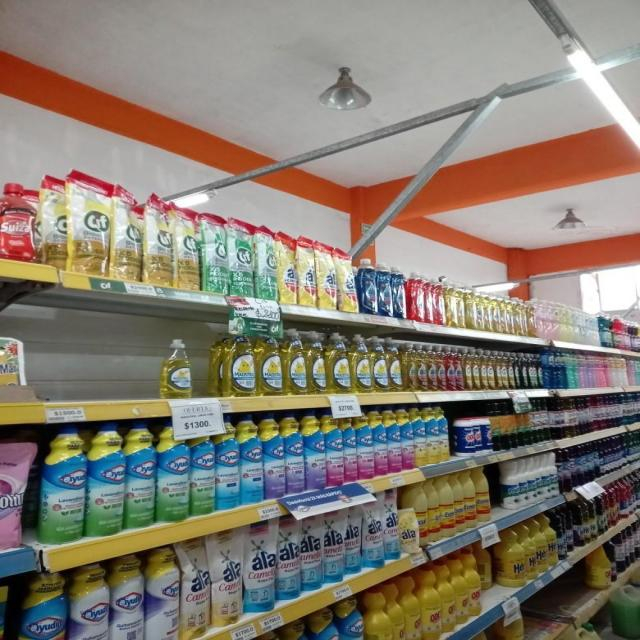ala_conc_amarillo: (404, 341, 418, 392), (416, 342, 427, 392), (428, 344, 438, 392), (437, 344, 446, 392)
ala_conc_rojo: (446, 346, 459, 392)
ala_sachet_amarillo: (317, 239, 338, 311), (298, 234, 316, 307), (339, 245, 358, 312)
cif_conc_bot_amarilla: (481, 349, 494, 391), (496, 350, 508, 390), (472, 348, 480, 391)
cif_conc_sachet_amarillo: (68, 172, 110, 277)
cif_conc_sachet_verde: (201, 206, 228, 294), (228, 216, 254, 296)
magistral_con_amarillo: (224, 332, 256, 397), (257, 333, 283, 396), (284, 331, 307, 395), (327, 332, 350, 394), (307, 332, 326, 395), (351, 334, 371, 393), (371, 336, 388, 392), (388, 338, 403, 392)
